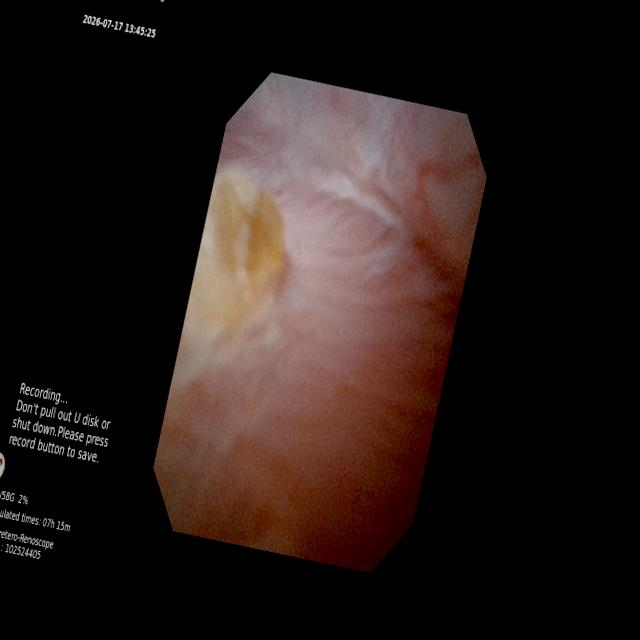stone-new: (185, 169, 283, 337)
